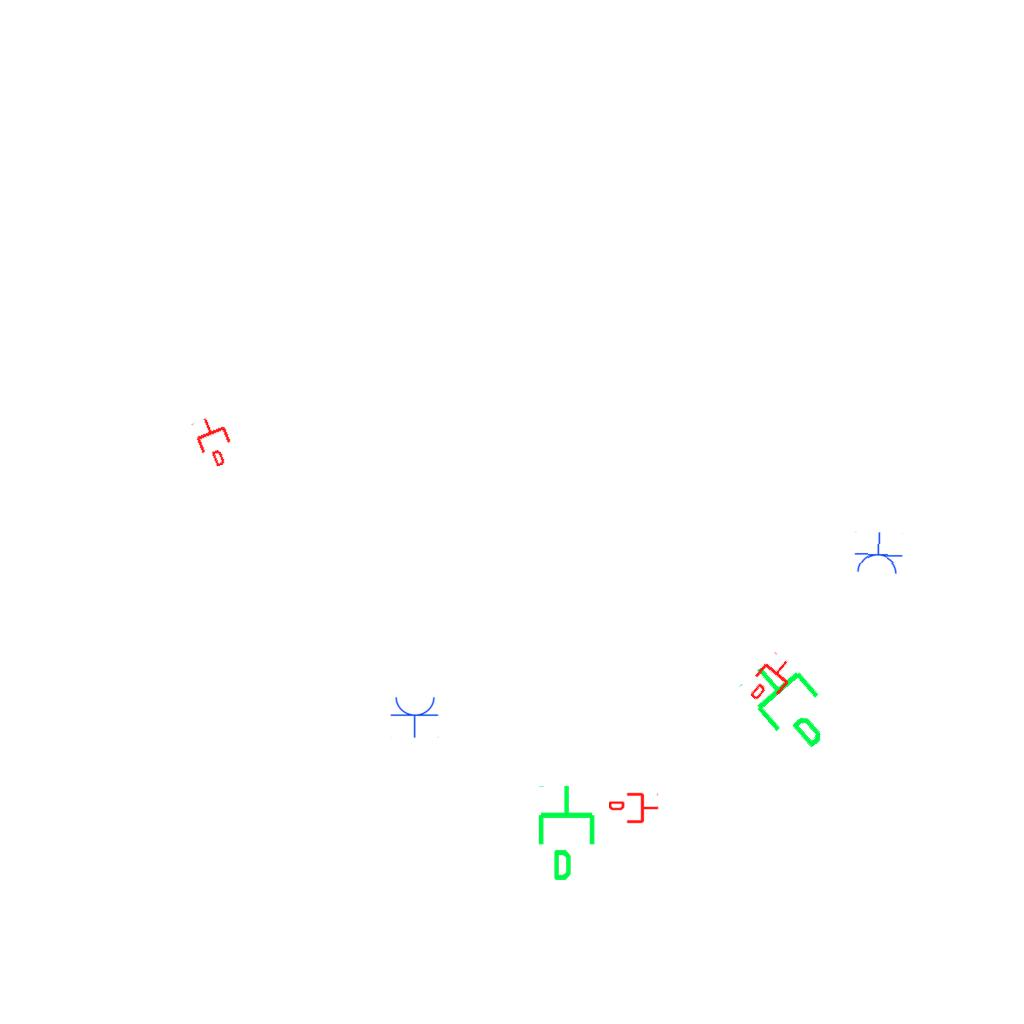Datenanschluss_einfach: (732, 642, 851, 764), (534, 783, 603, 883), (741, 649, 801, 711), (188, 411, 240, 471), (609, 791, 659, 825)
Schukosteckdose_einfach: (851, 530, 905, 577), (390, 695, 440, 738)
